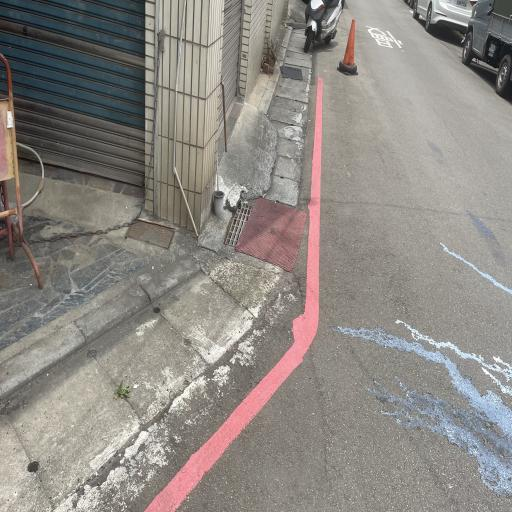redline: (138, 71, 328, 512)
